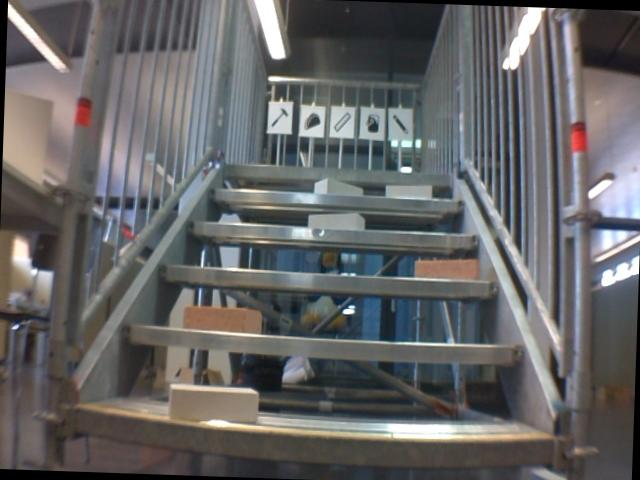brick: (166, 383, 258, 421), (182, 307, 261, 332), (415, 256, 476, 278), (308, 210, 364, 230), (314, 177, 362, 195), (385, 183, 430, 197)
bucket: (361, 111, 382, 136)
edge: (75, 408, 555, 471), (121, 324, 525, 366), (159, 265, 497, 296), (188, 221, 481, 247), (209, 188, 464, 212), (222, 163, 450, 182)
hammer: (270, 105, 290, 130)
pencil: (388, 112, 409, 137)
ruler: (330, 108, 352, 134)
steps: (69, 155, 568, 475)
taco: (301, 109, 320, 132)
